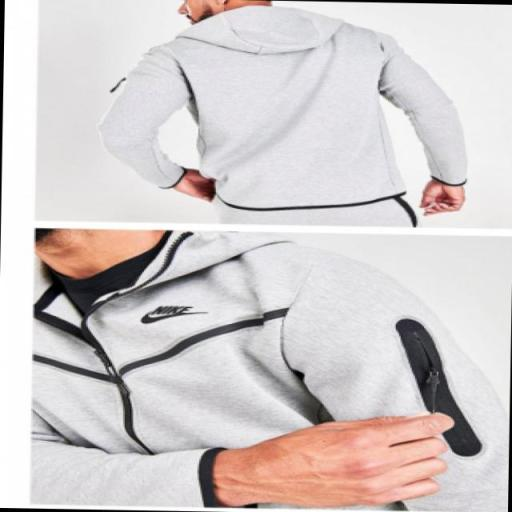Nike: (136, 312, 196, 326), (148, 305, 188, 315)
